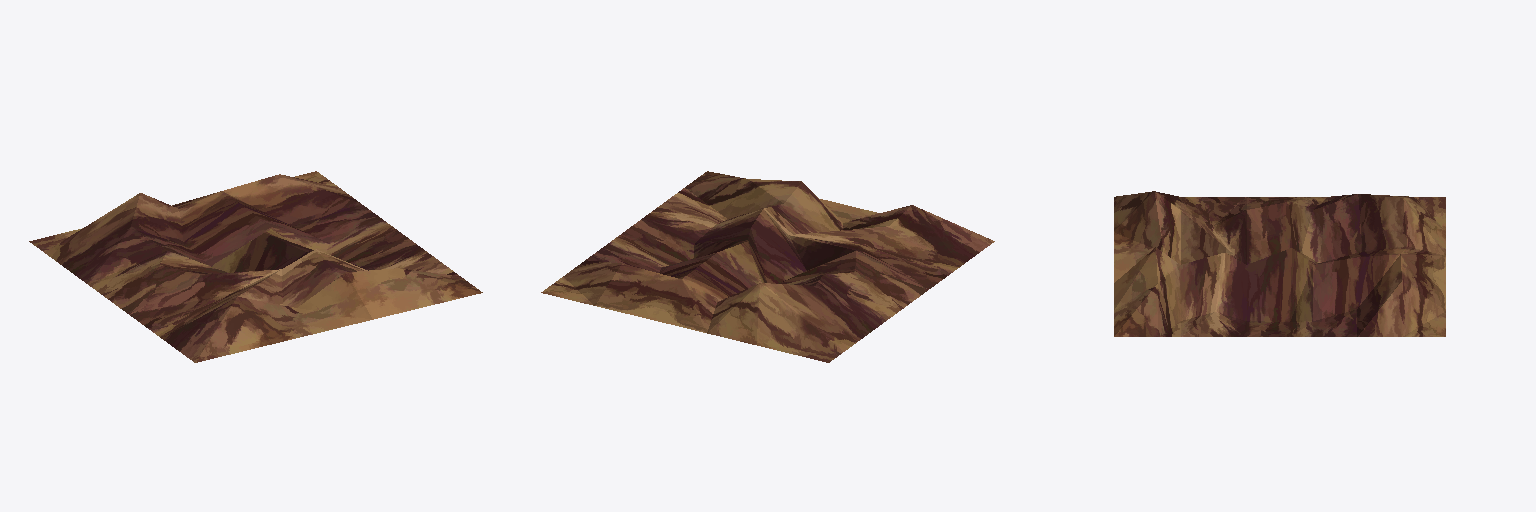
3 renders of one model, left to right at view 1: azimuth 30°, elevation 25°; view 2: azimuth 150°, elevation 25°; view 3: azimuth 270°, elevation 25°, orthographic.
Visible parts, largest first — view 1: polySurface50; view 2: polySurface50; view 3: polySurface50.
Boxes of the visible parts, box(x1,y1,x2,y2) form: polySurface50: box(29, 171, 482, 362); polySurface50: box(541, 171, 994, 362); polySurface50: box(1114, 191, 1445, 336).
Bounding box in the file's own units: 300 × 62.45 × 300.
1 materials, 1 textured.